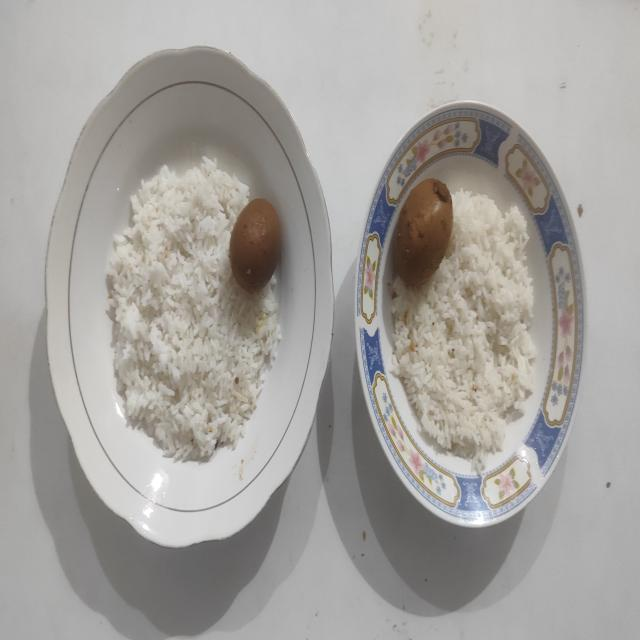nasi_putih: (107, 158, 280, 462), (390, 189, 539, 472)
